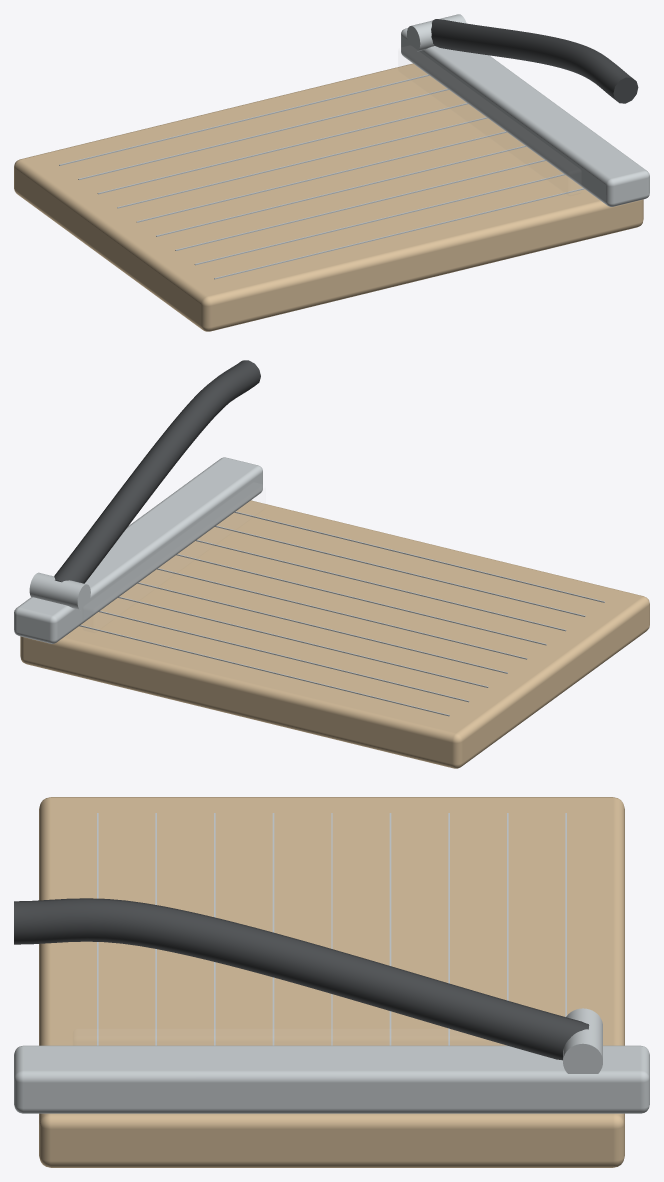
The model's file is camera-repair-and-darkroom-laboratory-print-trimming-g-46dc5710__31812.glb.
The picture shows the model from 3 angles, top to bottom: view 1: azimuth 30°, elevation 25°; view 2: azimuth 150°, elevation 25°; view 3: azimuth 270°, elevation 25°; orthographic projection. The views are drawn at different scales.
Visible parts, largest first — view 1: print-trimming-guillotine; view 2: print-trimming-guillotine; view 3: print-trimming-guillotine.
Boxes of the visible parts, left/top/right/bottom form: print-trimming-guillotine: left=14, top=14, right=649, bottom=331; print-trimming-guillotine: left=14, top=360, right=649, bottom=768; print-trimming-guillotine: left=14, top=797, right=649, bottom=1167.
Size of the model in its own units: 0.46 by 0.165 by 0.38.
